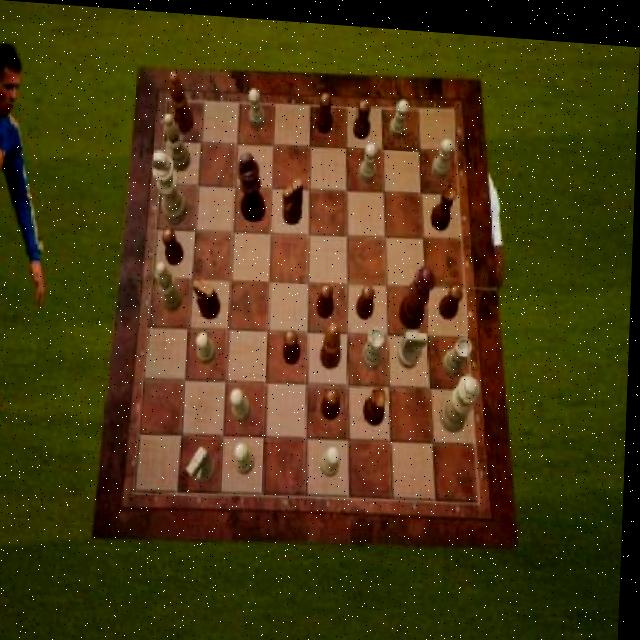bishop: (168, 70, 195, 131), (321, 318, 344, 364)
black-bishop: (237, 148, 268, 219)
black-king: (194, 277, 223, 317), (283, 174, 304, 223)
black-knight: (440, 276, 465, 313), (162, 225, 186, 263), (357, 278, 377, 314), (322, 382, 343, 416), (316, 88, 333, 130), (354, 95, 372, 134), (285, 325, 303, 360), (319, 278, 337, 313)
black-pawn: (399, 257, 436, 325)
black-queen: (433, 175, 459, 225), (366, 380, 391, 422)
black-rook: (163, 112, 192, 171), (157, 259, 185, 310)
white-bishop: (152, 148, 190, 224)
white-king: (399, 324, 430, 364), (189, 443, 219, 481)
white-knight: (433, 130, 454, 173), (390, 94, 410, 135), (359, 138, 378, 179), (249, 86, 267, 127), (231, 385, 252, 420), (236, 439, 257, 473), (197, 329, 218, 363), (322, 441, 343, 473)
white-pawn: (441, 366, 483, 429)
white-queen: (443, 329, 474, 371), (363, 320, 387, 364)
